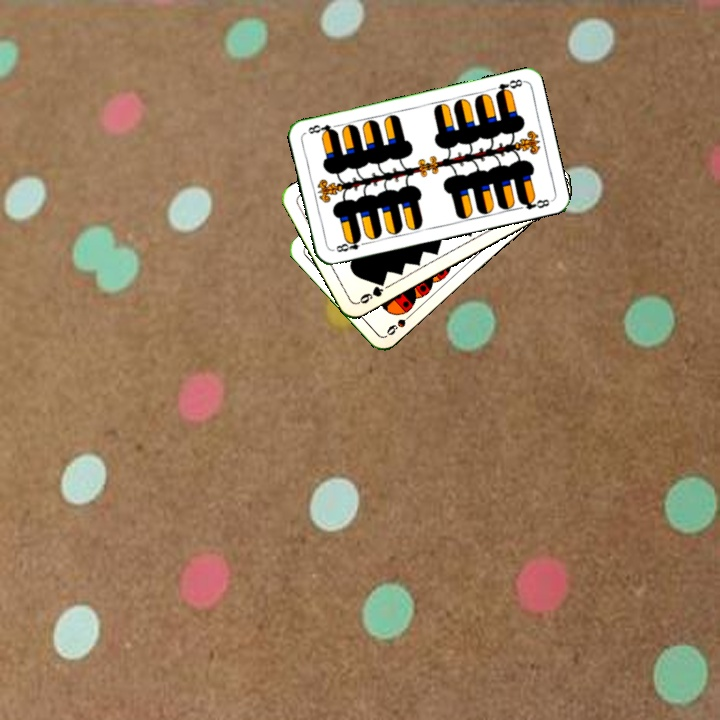E8: (329, 233, 370, 255), (491, 75, 526, 98)
G9: (354, 276, 388, 306)
S9: (382, 307, 416, 338)
